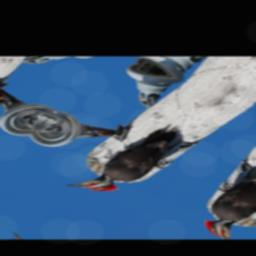Woodpecker: (60, 112, 206, 209)
